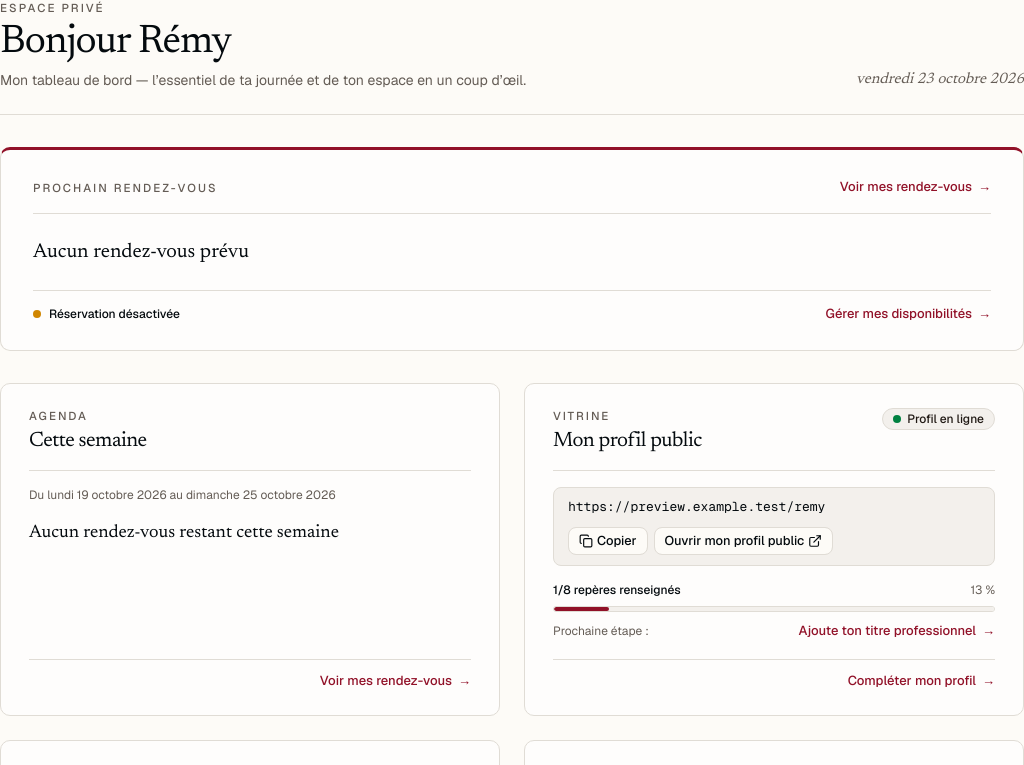
Test: DashboardView › gère le refus de presse-papiers sans annoncer une copie réussie
Click the button "Copier" at (608, 541), box [568,527,648,555]
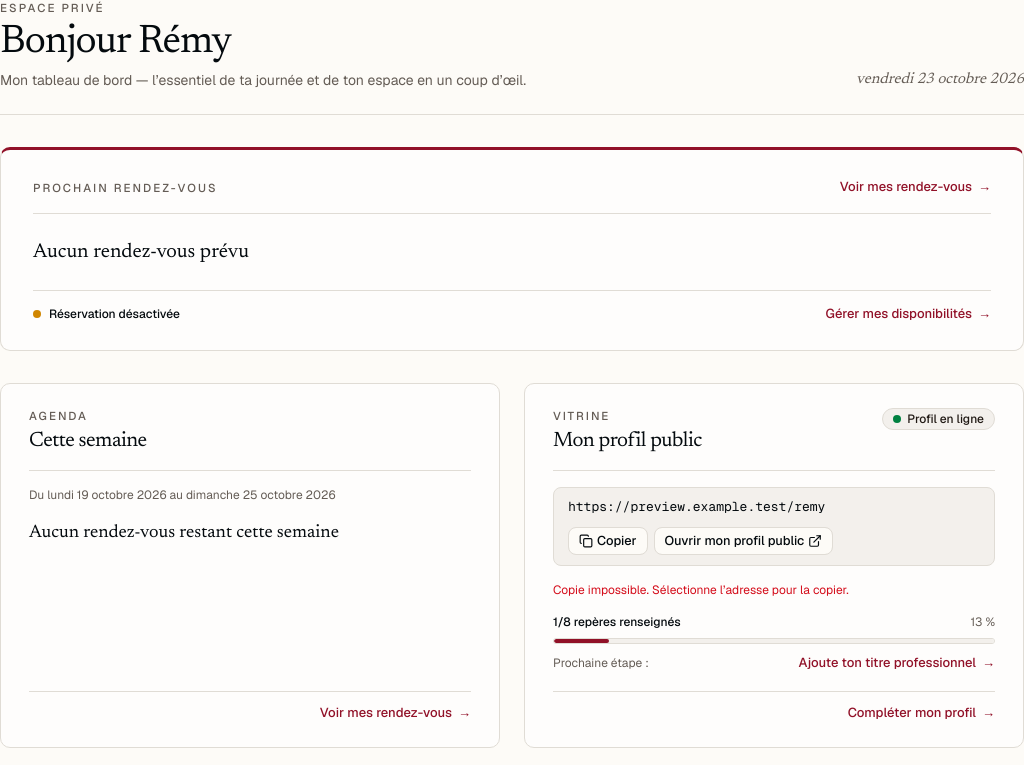
Check: the message shows "Copie impossible", box [553,582,849,598]
